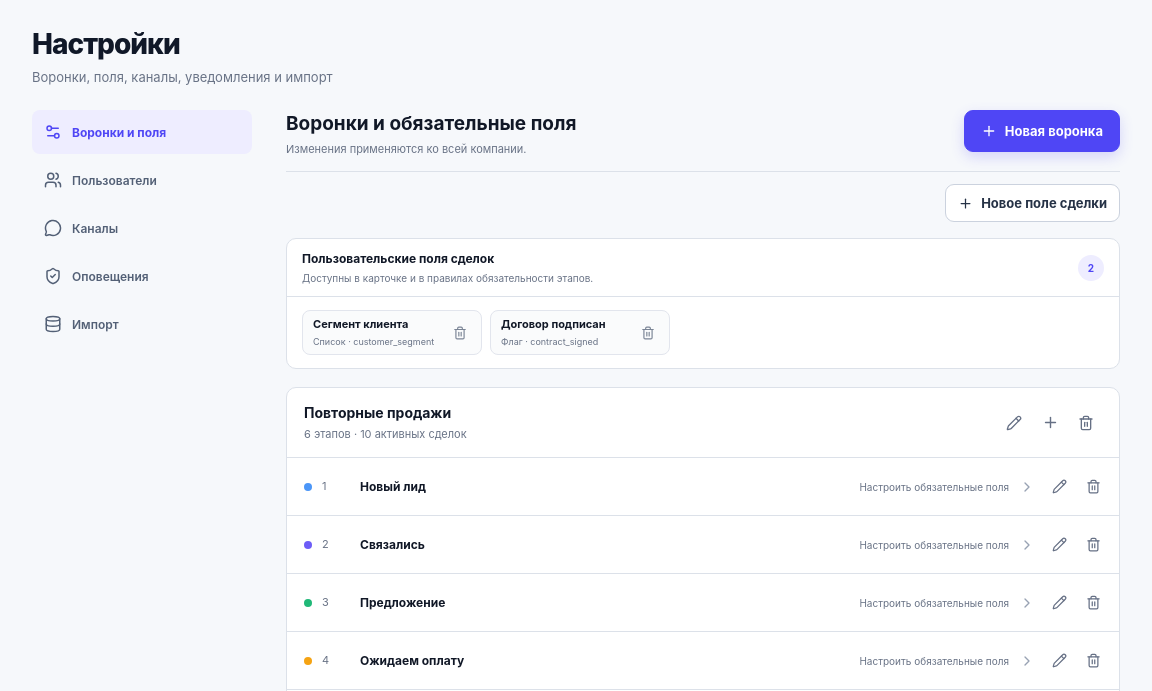
Scenario: SettingsPage user roles › offers the employee role with its user-facing label
Click the tab "Пользователи" at point(142, 180), box [32,158,252,202]
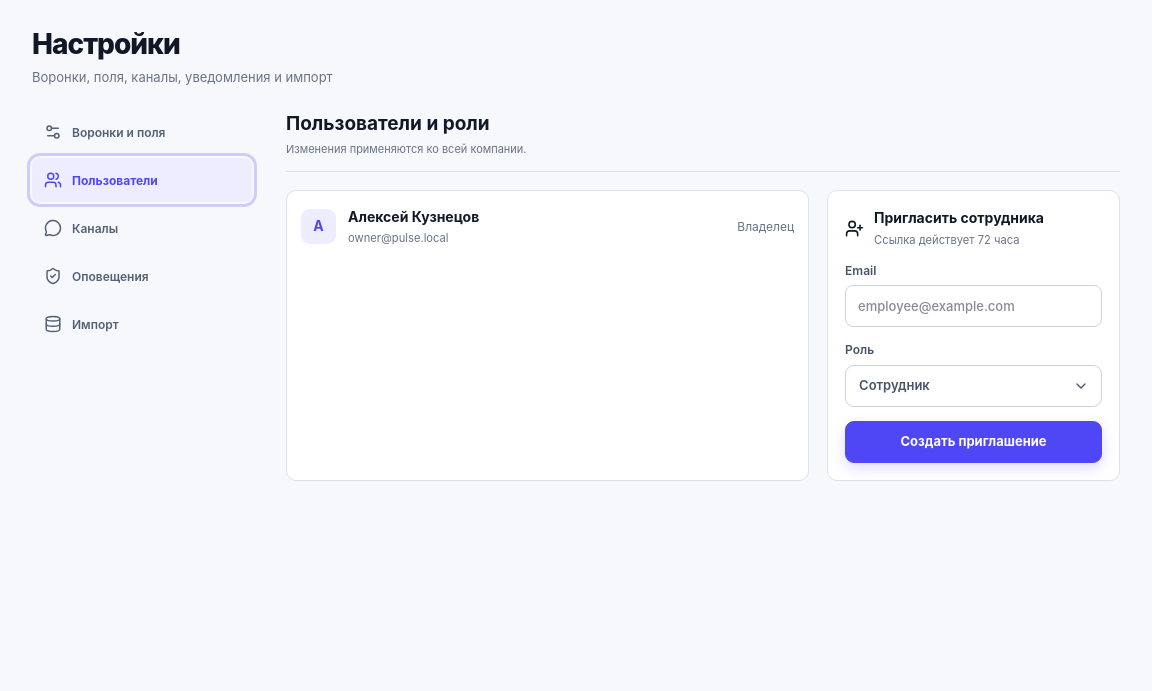
Result: the dropdown labelled "Роль" shows "Сотрудник" at [845,365,1102,407]
